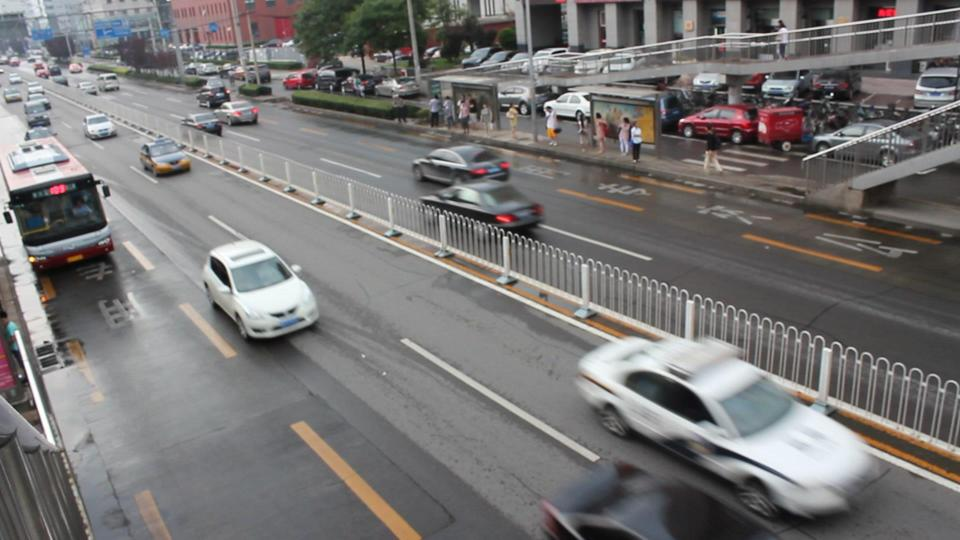Bus: (1, 139, 114, 269)
Car: (576, 335, 875, 520), (550, 463, 781, 540), (200, 240, 318, 340), (419, 181, 541, 237), (411, 145, 506, 187), (140, 137, 192, 176), (213, 99, 257, 125), (180, 113, 223, 138)
